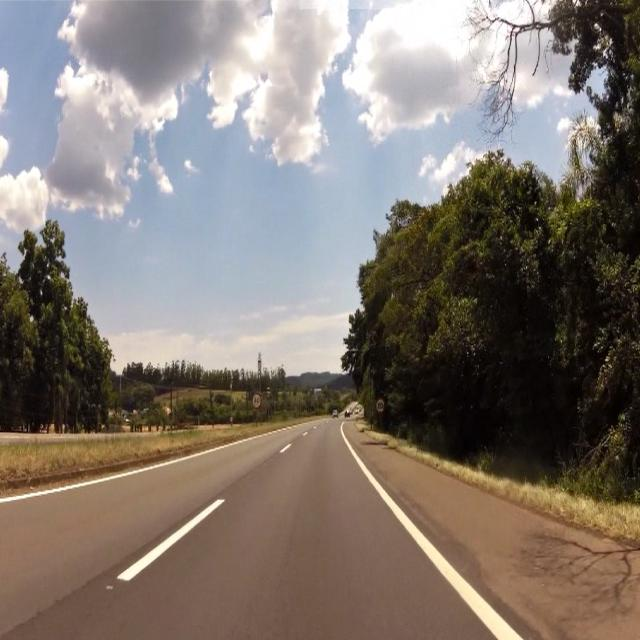R-19: (250, 393, 263, 408), (375, 400, 385, 412)
